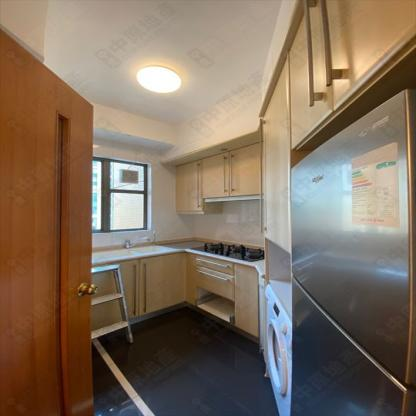Cupboard: (142, 251, 259, 338), (176, 140, 261, 214)
Faucet: (120, 237, 151, 247)
Fridge: (290, 87, 413, 415)
Sink: (91, 245, 176, 263)
Stove: (185, 243, 264, 262)
